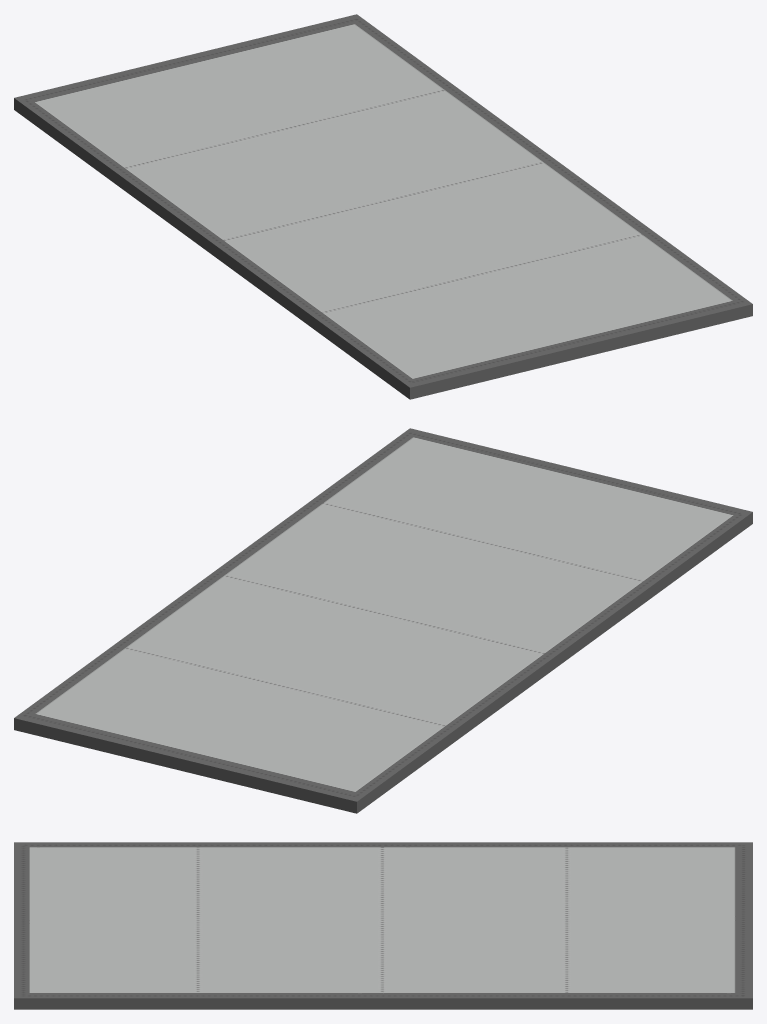
Rendered from Half Floor.fbx.
The picture shows the model from 3 angles, top to bottom: view 1: azimuth 30°, elevation 25°; view 2: azimuth 150°, elevation 25°; view 3: azimuth 270°, elevation 25°; orthographic projection. The views are drawn at different scales.
Parts seen in each view (by area): view 1: Floor Piece; view 2: Floor Piece; view 3: Floor Piece.
Part boxes in pixels (x1=…): Floor Piece: x1=14, y1=14, x2=752, y2=399; Floor Piece: x1=14, y1=428, x2=752, y2=813; Floor Piece: x1=14, y1=842, x2=752, y2=1009.
Bounding box in the file's own units: 750 × 25 × 1500.
